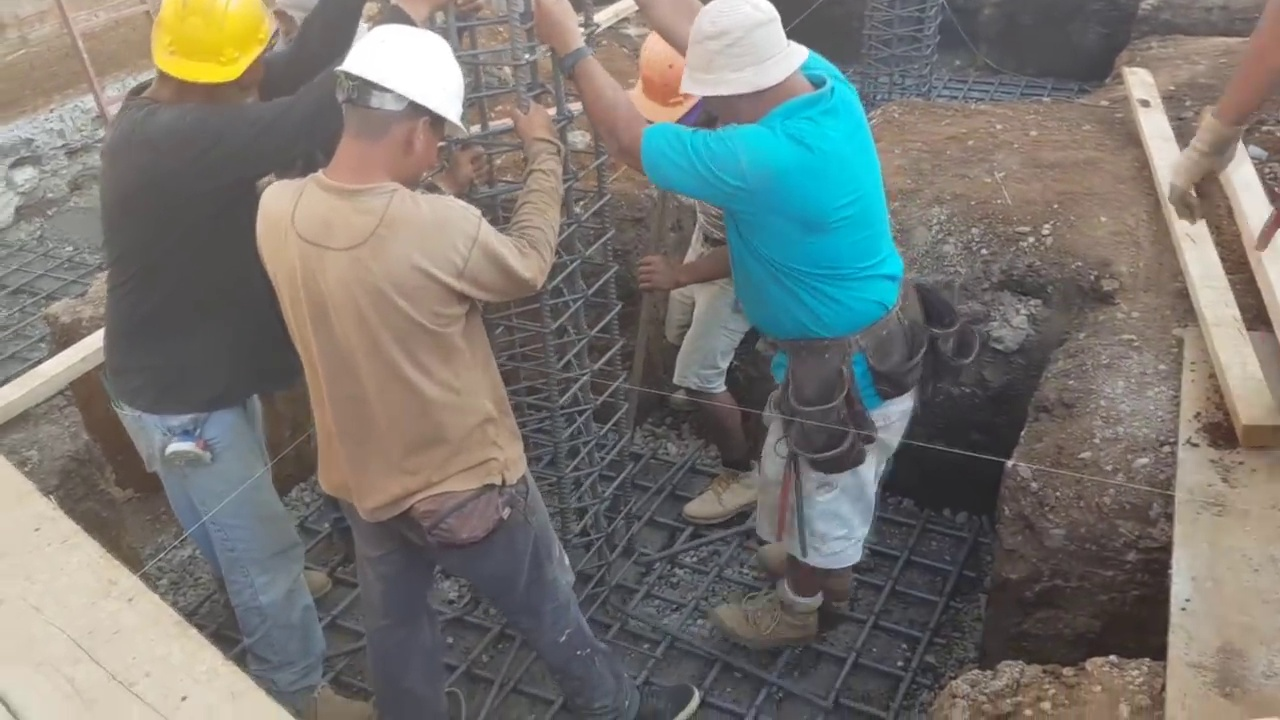helmet: (330, 21, 466, 140), (150, 2, 276, 80), (627, 26, 701, 124)
helmet-off: (665, 0, 822, 132)
helmet-on: (313, 19, 468, 198), (129, 0, 278, 113), (627, 21, 704, 142)
person: (264, 0, 702, 720), (533, 0, 930, 671), (108, 0, 393, 720), (612, 23, 766, 527)
